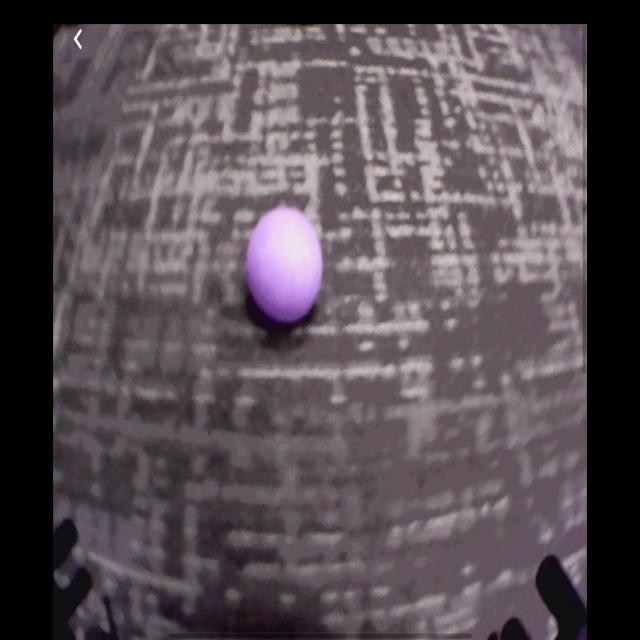ball: (246, 207, 324, 328)
